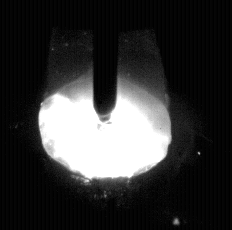arame: (94, 0, 118, 121)
poca: (38, 0, 172, 230)
